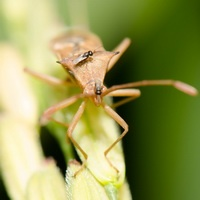insect: (24, 30, 197, 199), (75, 99, 123, 140)
